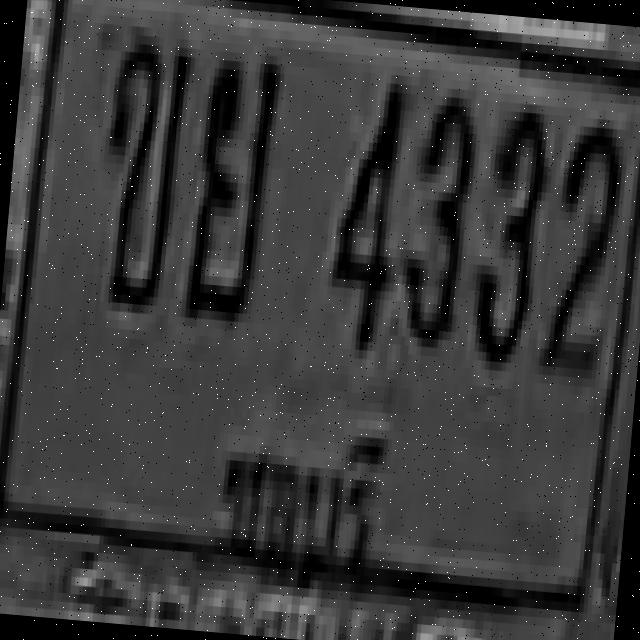11KhorKhai: (91, 24, 193, 307)
2: (538, 111, 622, 375)
3: (464, 92, 550, 364), (395, 85, 478, 340)
4: (322, 66, 403, 347)
43YorYak: (181, 41, 278, 314)
Chonburi: (206, 394, 398, 584)
